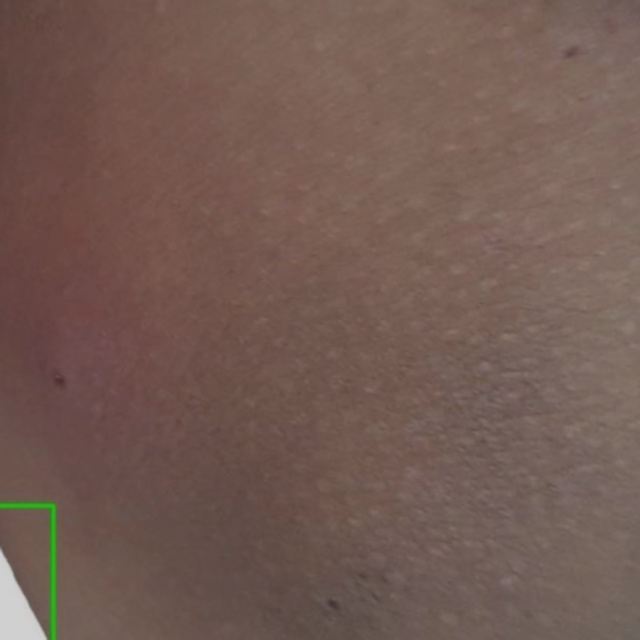Eczema: (0, 505, 53, 639)
